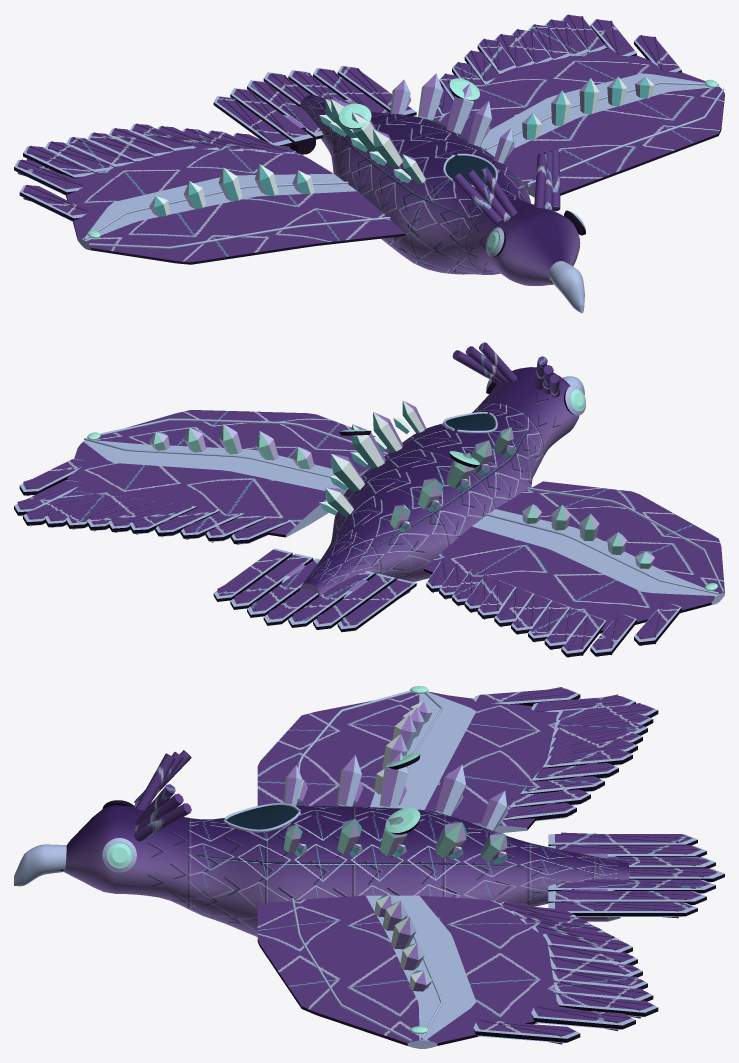
The picture shows the model from 3 angles, top to bottom: view 1: azimuth 30°, elevation 25°; view 2: azimuth 150°, elevation 25°; view 3: azimuth 270°, elevation 25°; orthographic projection. The views are drawn at different scales.
Parts seen in each view (by area): view 1: harpy_eagle_hull; view 2: harpy_eagle_hull; view 3: harpy_eagle_hull.
Part boxes in pixels (left/top/right/bottom): harpy_eagle_hull: left=14, top=14, right=724, bottom=313; harpy_eagle_hull: left=14, top=342, right=724, bottom=657; harpy_eagle_hull: left=14, top=686, right=724, bottom=1048.
Size of the model in its own units: 272 by 60.16 by 233.
1 material, 1 textured.
